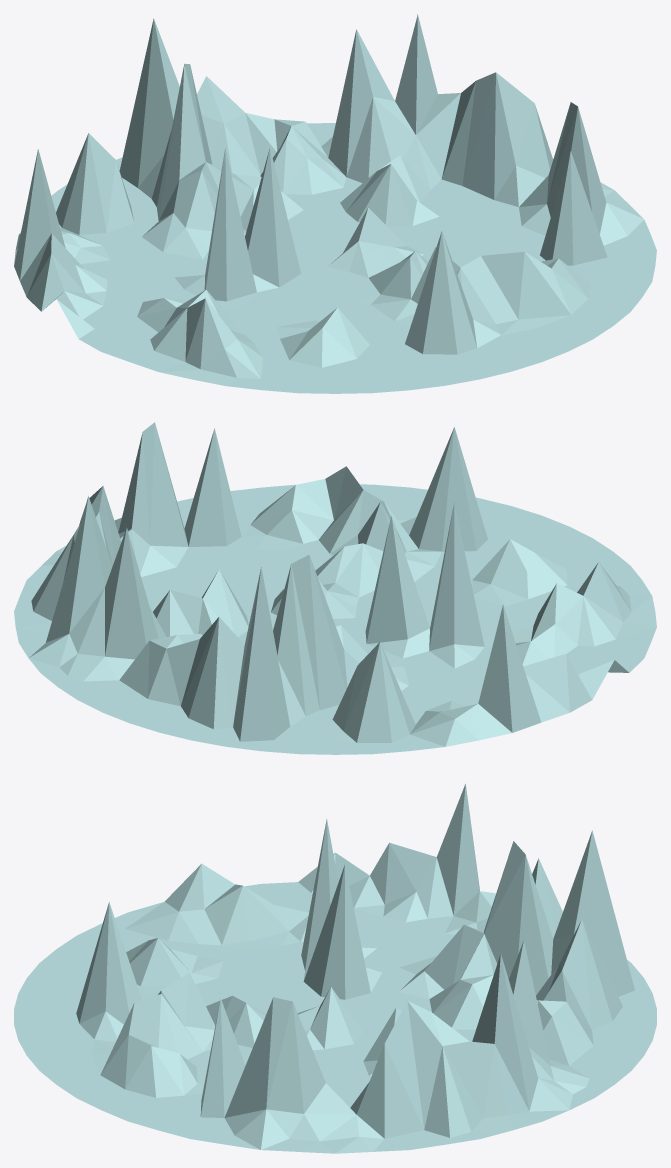
File: thorn_ice.FBX
3 views of the same model, one above another, from view 1: azimuth 30°, elevation 25°; view 2: azimuth 150°, elevation 25°; view 3: azimuth 270°, elevation 25° (orthographic).
Visible parts, largest first — view 1: Circle001; view 2: Circle001; view 3: Circle001.
Boxes of the visible parts, left/top/right/bottom form: Circle001: left=14, top=14, right=656, bottom=393; Circle001: left=14, top=422, right=656, bottom=754; Circle001: left=14, top=784, right=656, bottom=1153.
Bounding box in the file's own units: 28.67 × 7.84 × 28.48.
